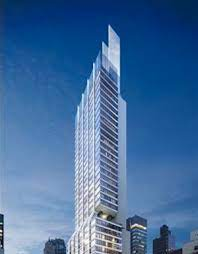Sky Building: (64, 24, 135, 250)
